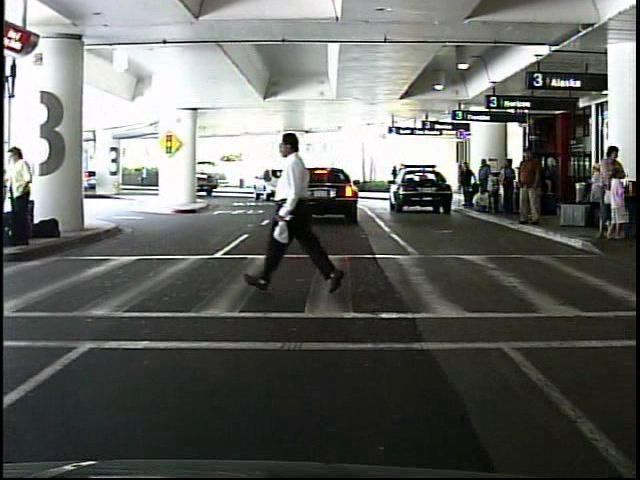person: (265, 131, 337, 303), (9, 145, 37, 249), (514, 144, 546, 228), (457, 162, 476, 210), (138, 163, 149, 190)
